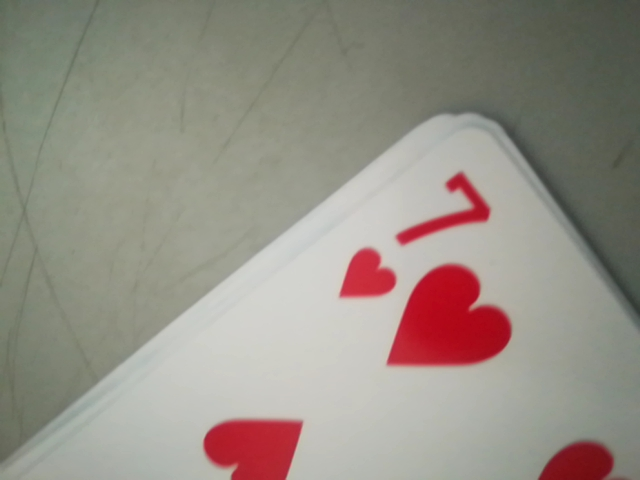hx 7: (343, 164, 506, 308)
